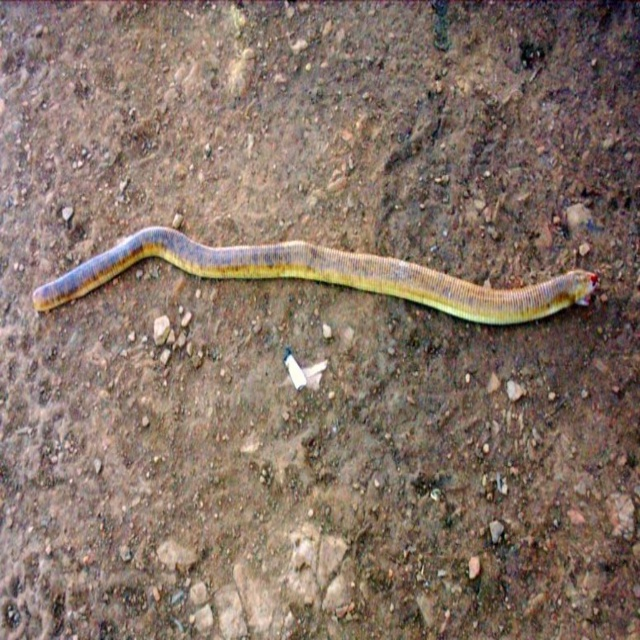Snake: (32, 227, 599, 326)
